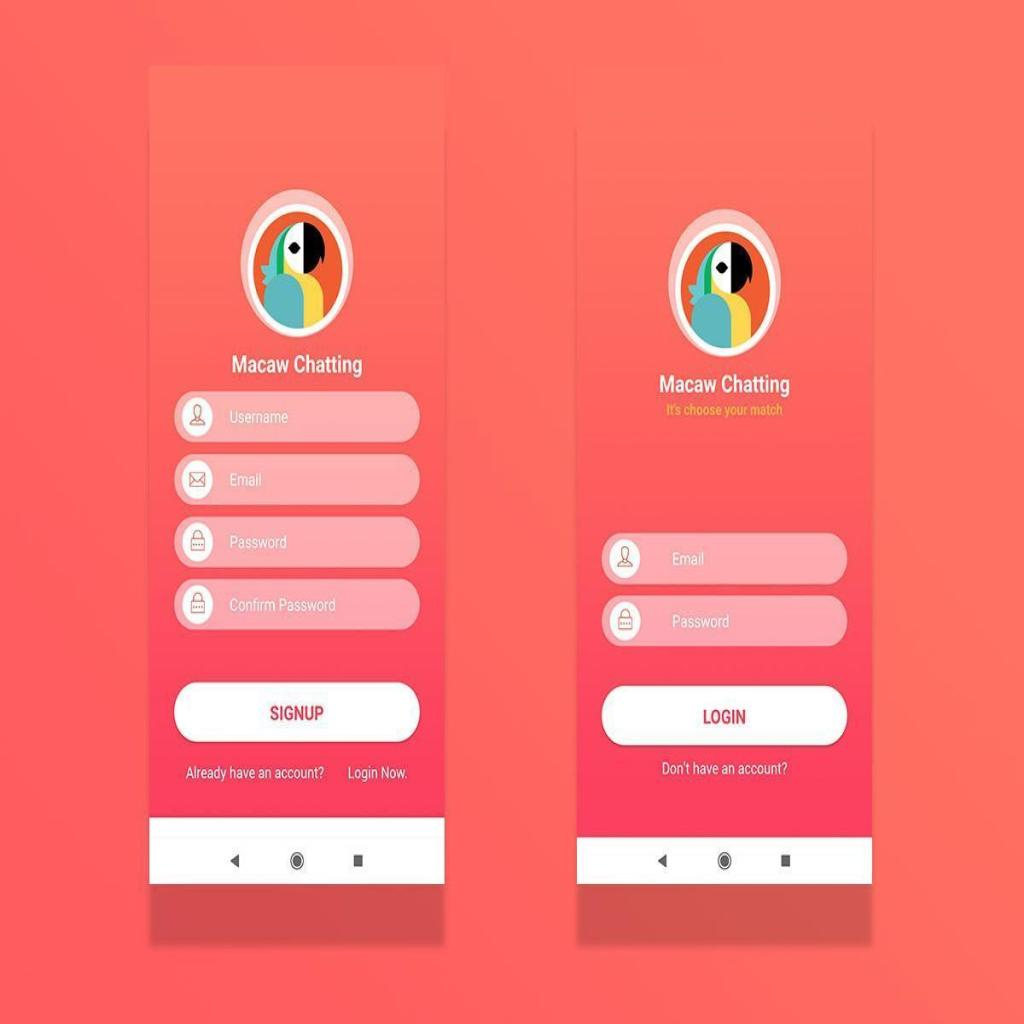button: (602, 684, 849, 748), (174, 680, 420, 743)
icon: (188, 402, 206, 428), (188, 526, 206, 550), (190, 590, 205, 614), (618, 606, 633, 630), (617, 544, 633, 566), (188, 470, 206, 488)
input: (602, 531, 848, 586), (173, 514, 420, 568), (174, 390, 421, 443), (174, 577, 421, 629), (602, 595, 848, 647), (174, 454, 421, 505)
label: (658, 371, 791, 398), (229, 352, 366, 378), (662, 757, 787, 777)
